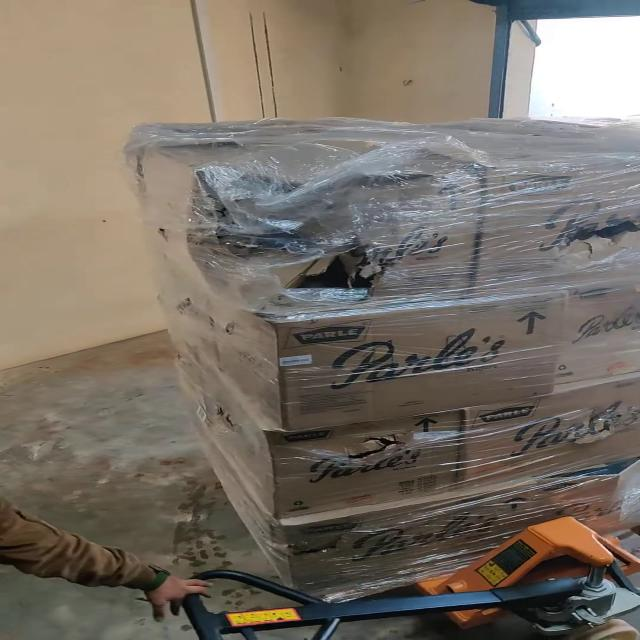leakage: (255, 228, 415, 310), (548, 203, 634, 257)
squeeze: (172, 138, 483, 270)
tear: (296, 422, 439, 487)
